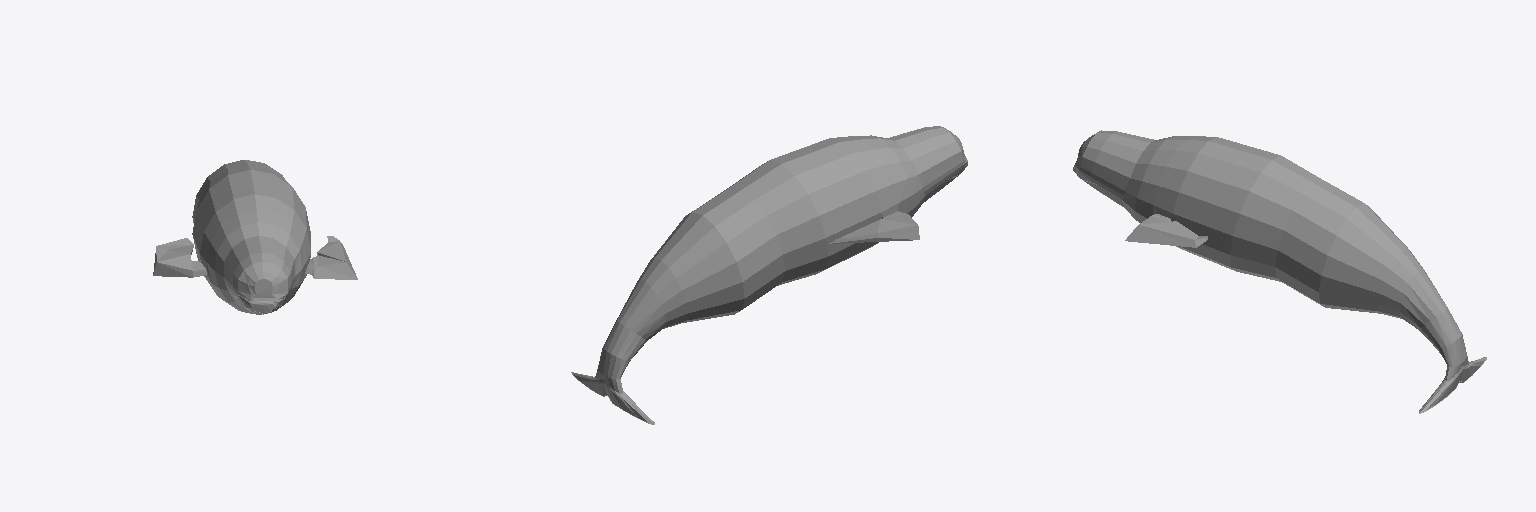
File: Low_Poly_Beluga.obj
The picture shows the model from 3 angles: view 1: azimuth 30°, elevation 25°; view 2: azimuth 150°, elevation 25°; view 3: azimuth 270°, elevation 25°; orthographic projection.
Visible parts, largest first — view 1: Cylinder; view 2: Cylinder; view 3: Cylinder.
Boxes of the visible parts, x1=… form: Cylinder: x1=153, y1=160, x2=357, y2=314; Cylinder: x1=571, y1=126, x2=967, y2=424; Cylinder: x1=1073, y1=130, x2=1486, y2=413.
Bounding box in the file's own units: 3.43 × 2.49 × 4.81.